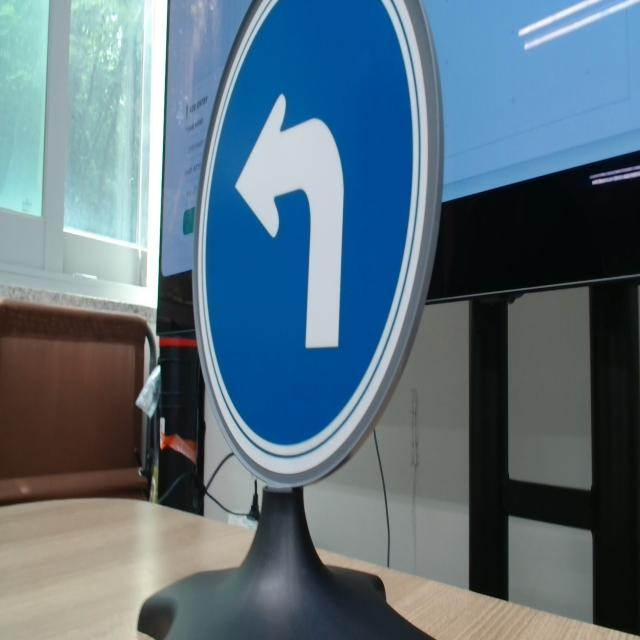left_direction: (177, 0, 449, 486)
